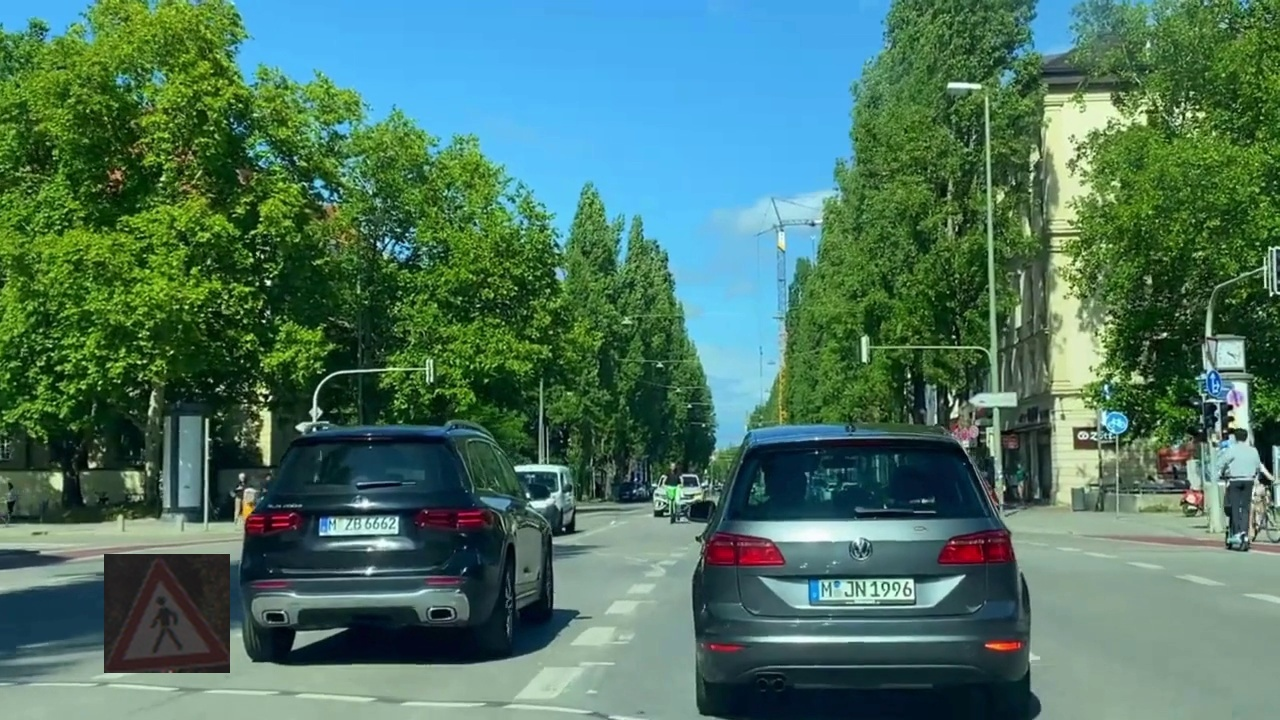Pedestrians: (104, 554, 230, 673)
